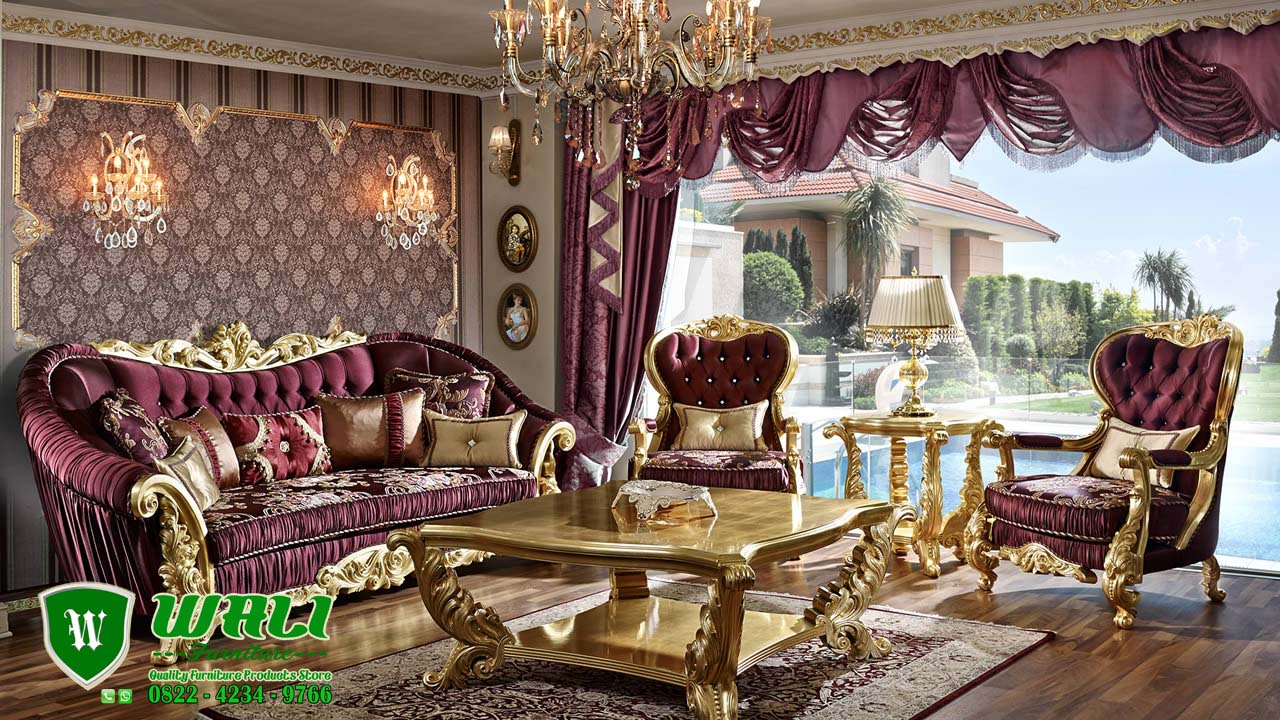Carving Chair: (27, 324, 573, 587), (1013, 313, 1249, 635)
Carving Table: (412, 462, 904, 702)
